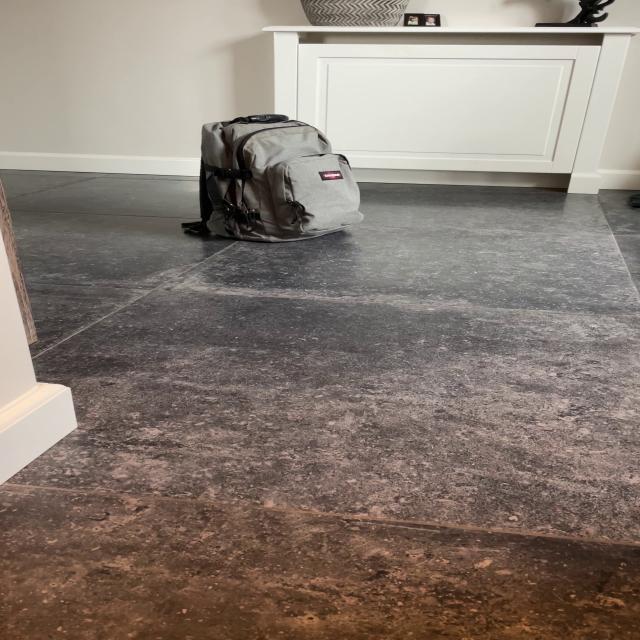backpack: (183, 109, 371, 248)
